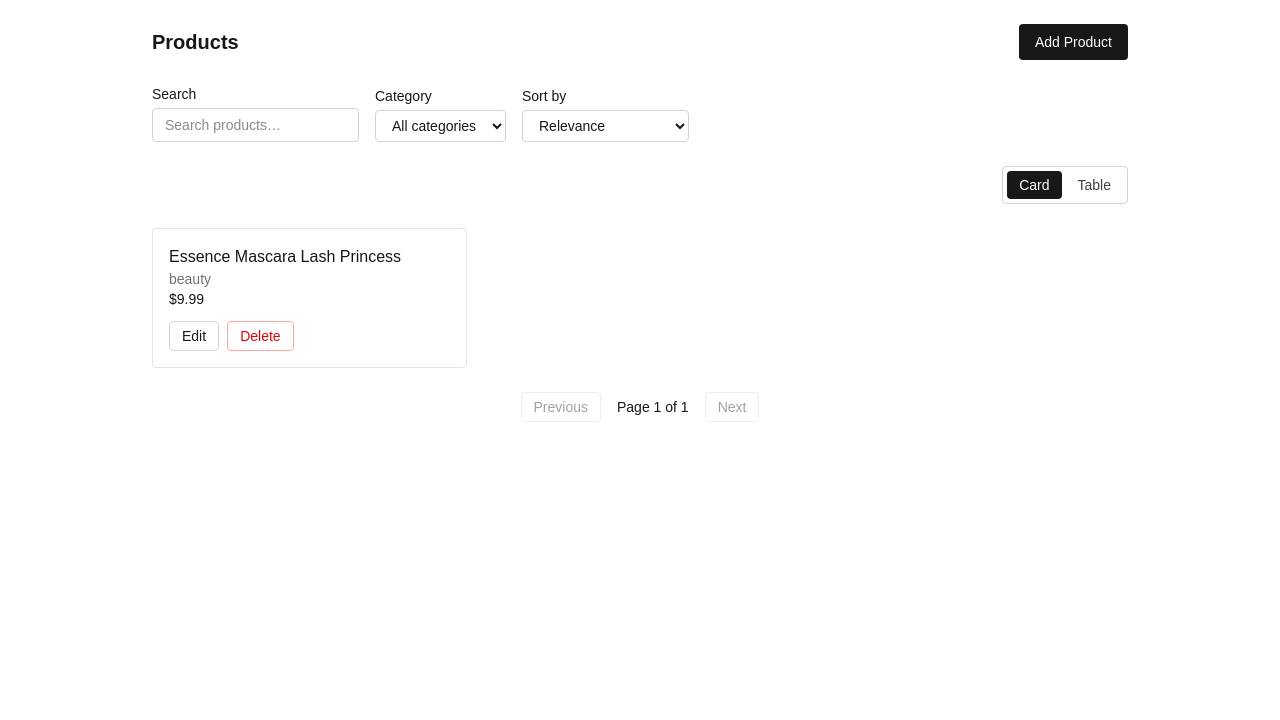
Test case: ProductsView › shows an error toast when a product update fails, and Retry re-attempts the same mutation
The width and height of the screenshot is (1280, 720).
Expected: the text "Essence Mascara Lash Princess" is shown, [169,248,401,265]
Click the button "Edit": (194, 336) [169,321,219,351]
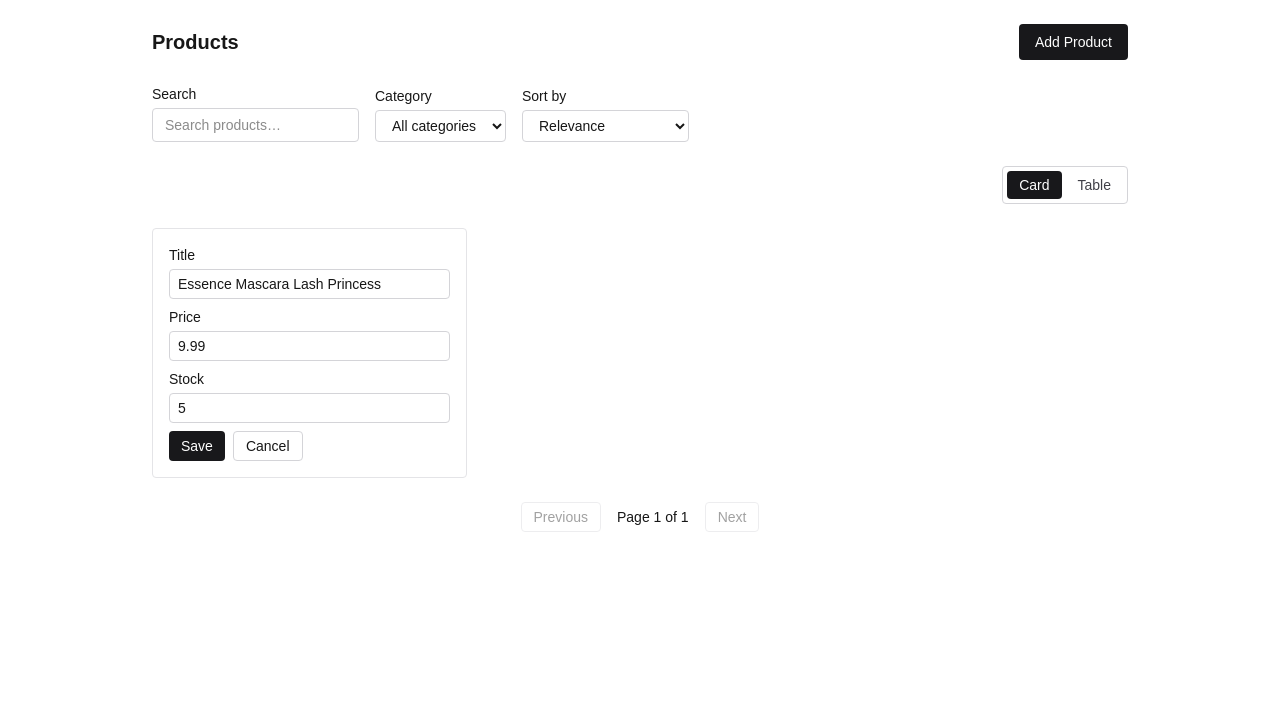
Replace the text in the field labelled "Title" with "Renamed": (309, 284) [169,269,450,299]
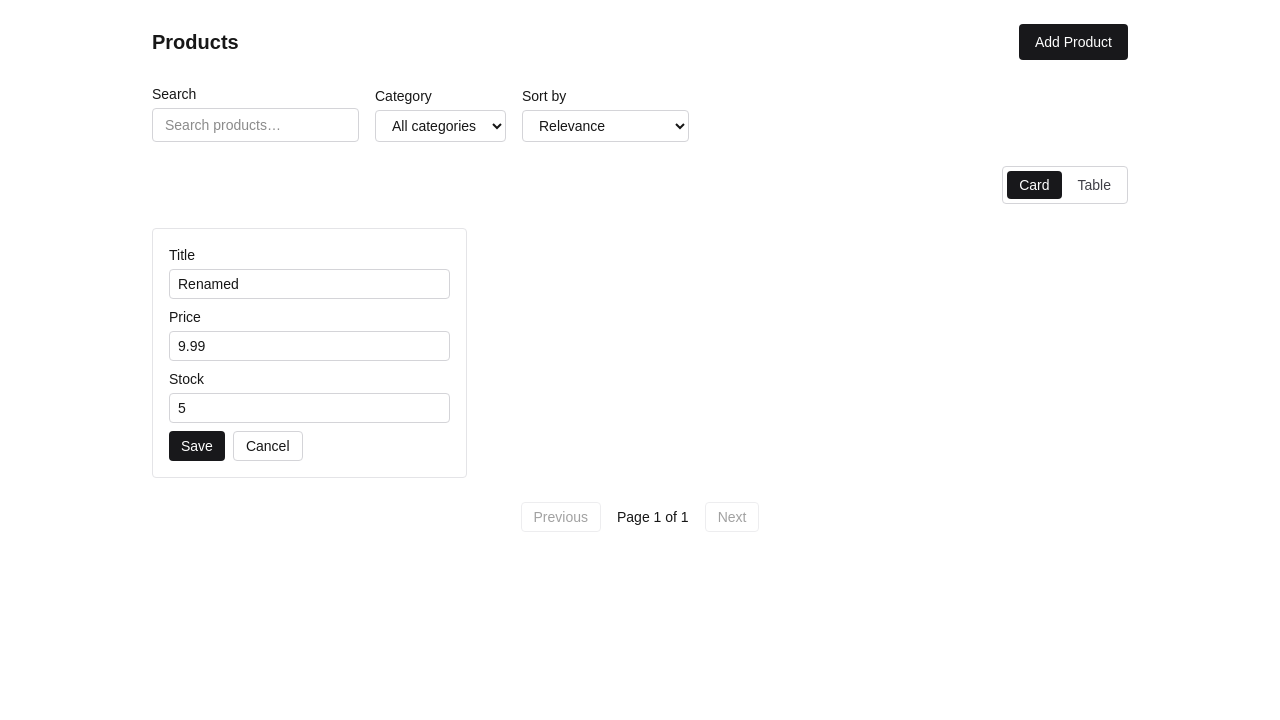
Click the button "Save": (197, 446) [169,431,225,461]
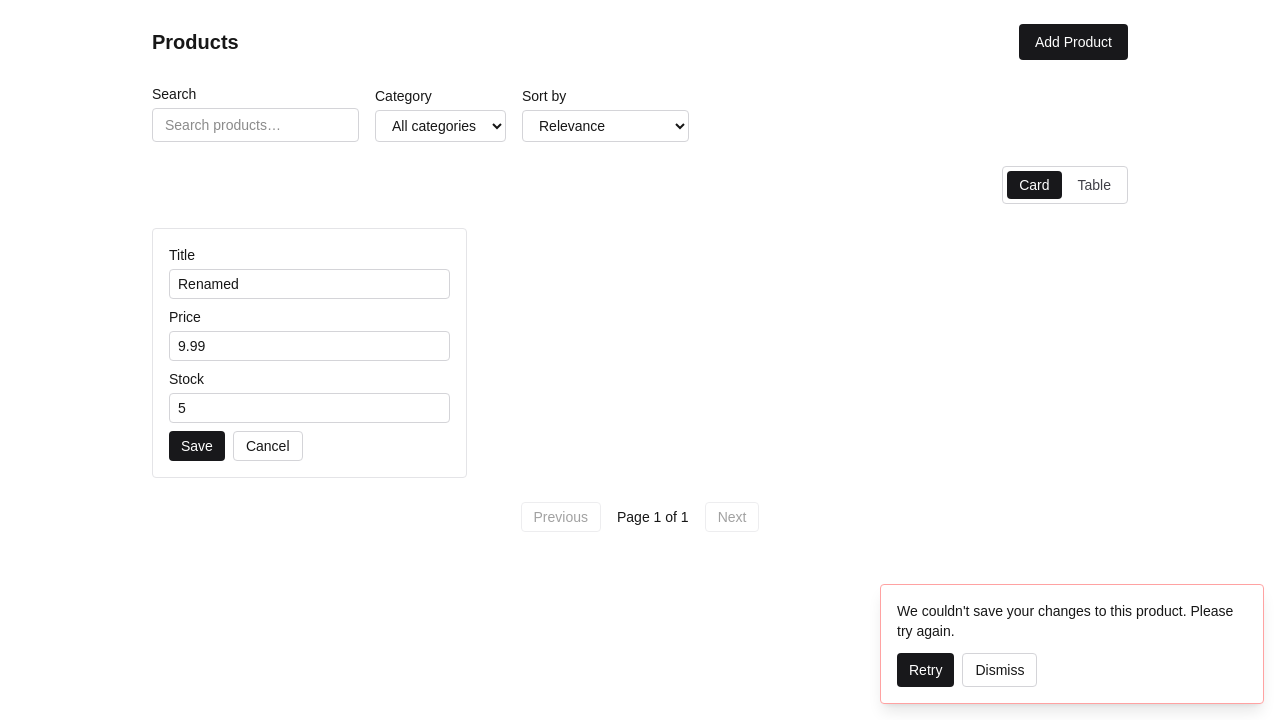
Now the message shows "couldn't save", box [897,603,1233,639]
Click the button "Retry": (926, 670) [897,653,954,687]
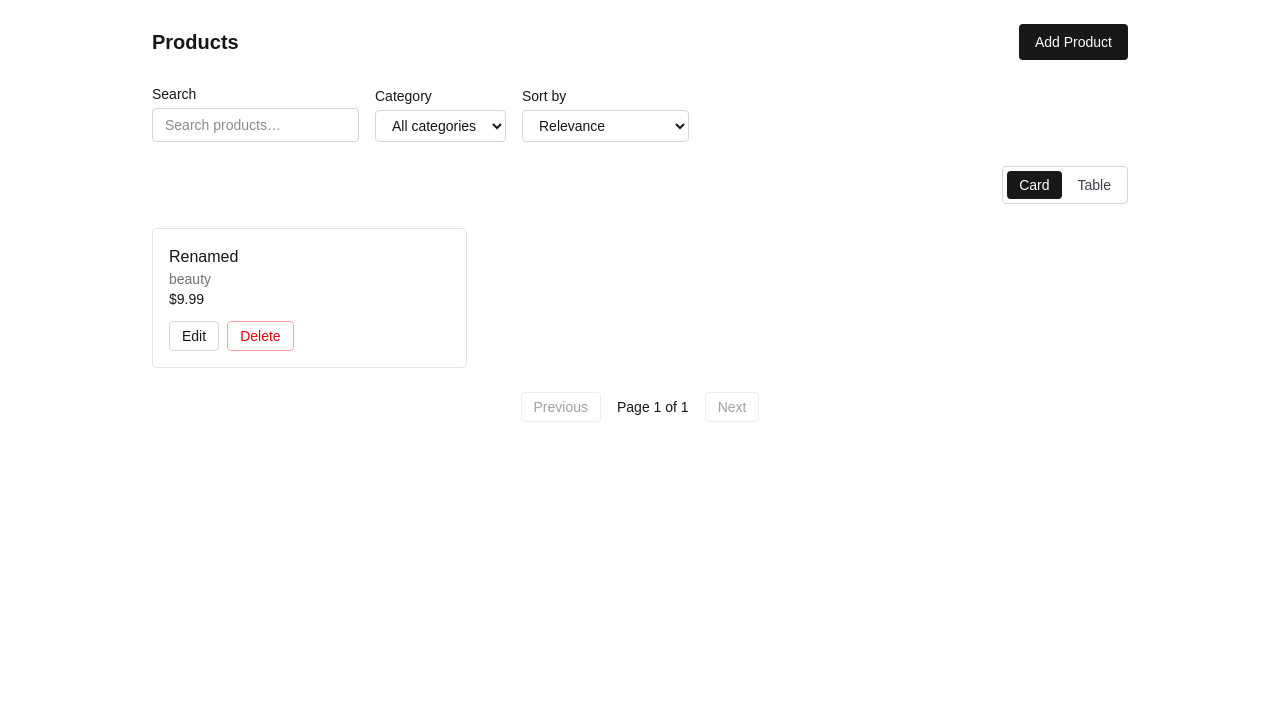
Now the message "We couldn't save your changes to this product. Please try again. Retry Dismiss" is gone
